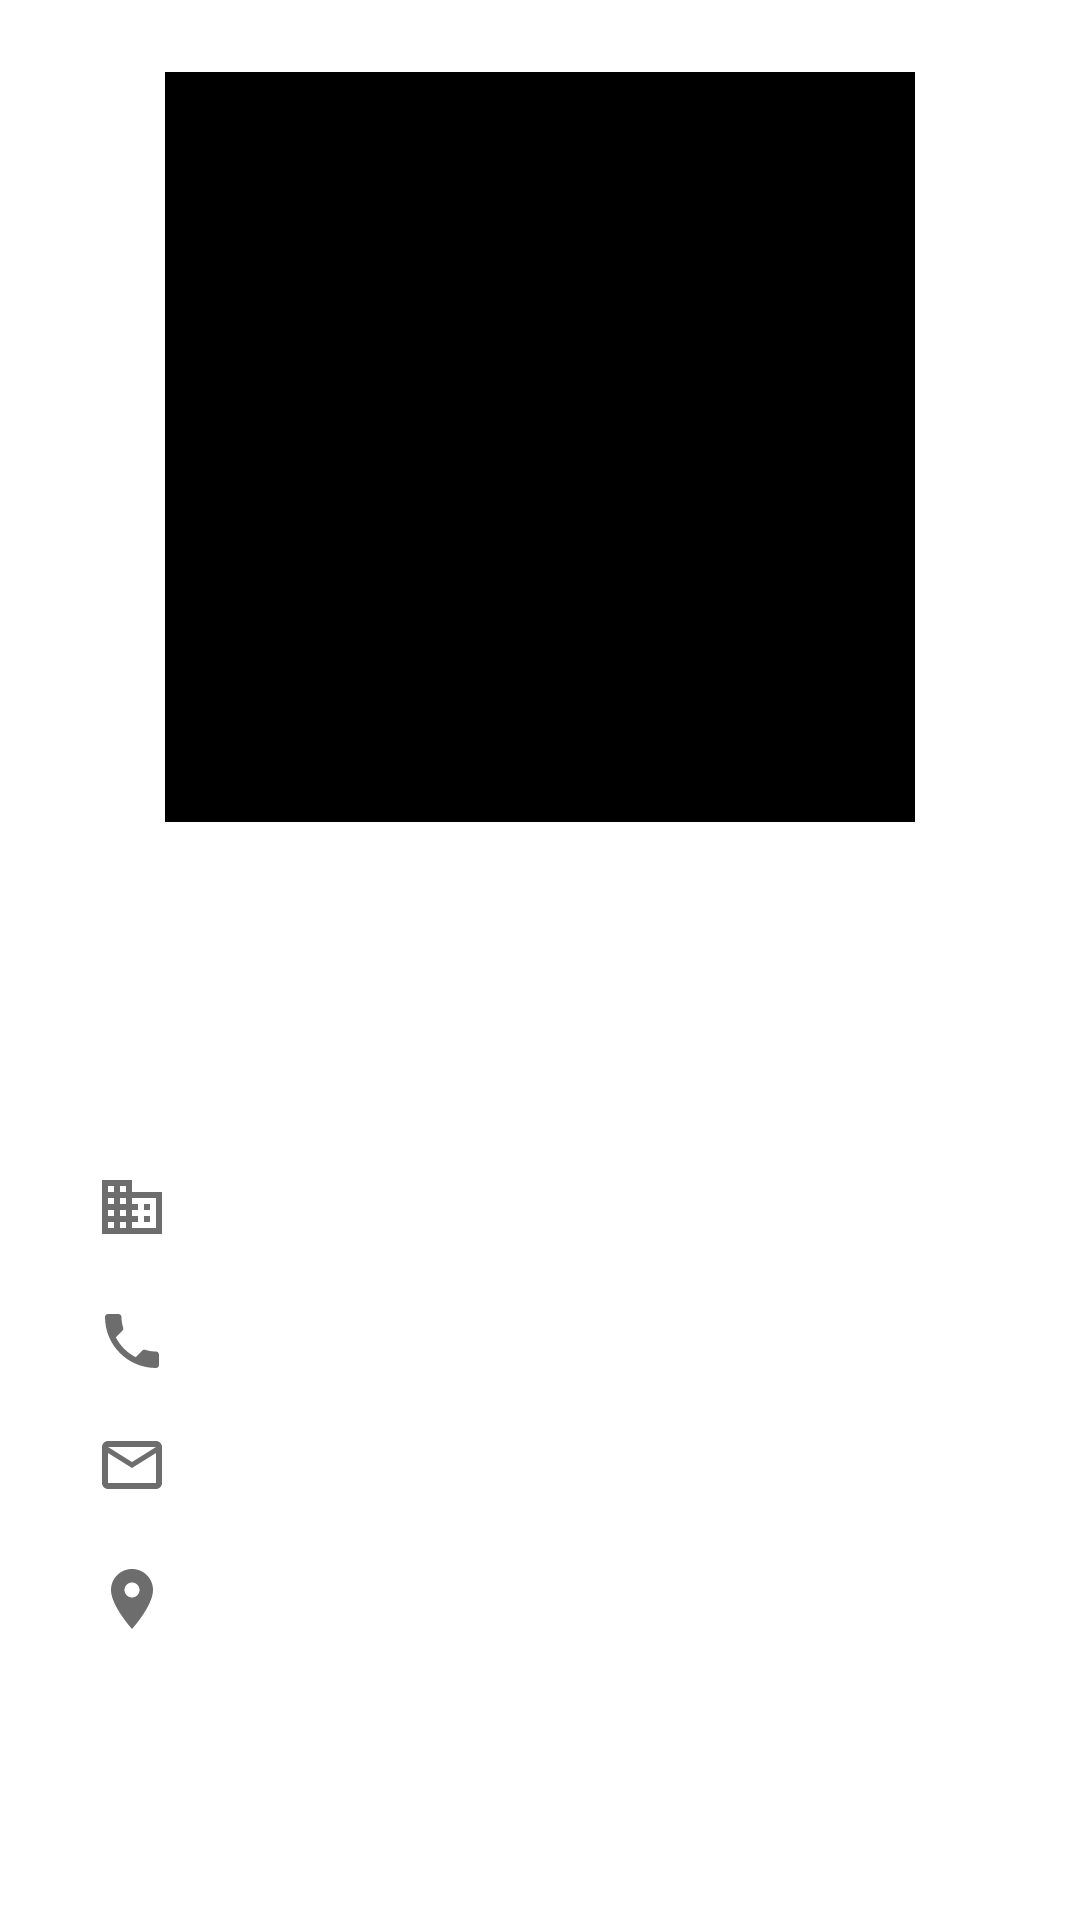

Icon bounding boxes for this 1080×1920 phone screenshot, format [x1,y1,x2,y2]:
Email icon: [102,1441,162,1489]
Institution icon: [102,1180,162,1234]
Location icon: [111,1569,153,1629]
Phone icon: [105,1314,159,1368]
